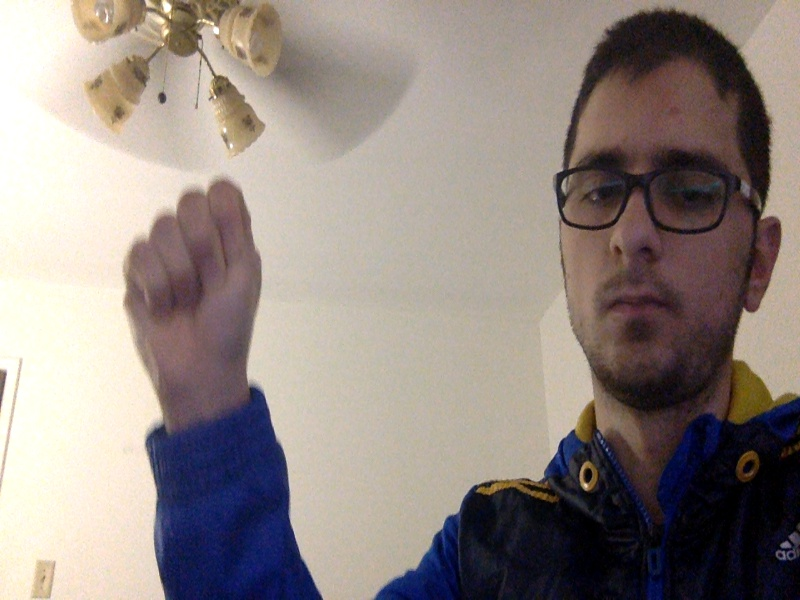0-hand: (121, 180, 261, 406)
